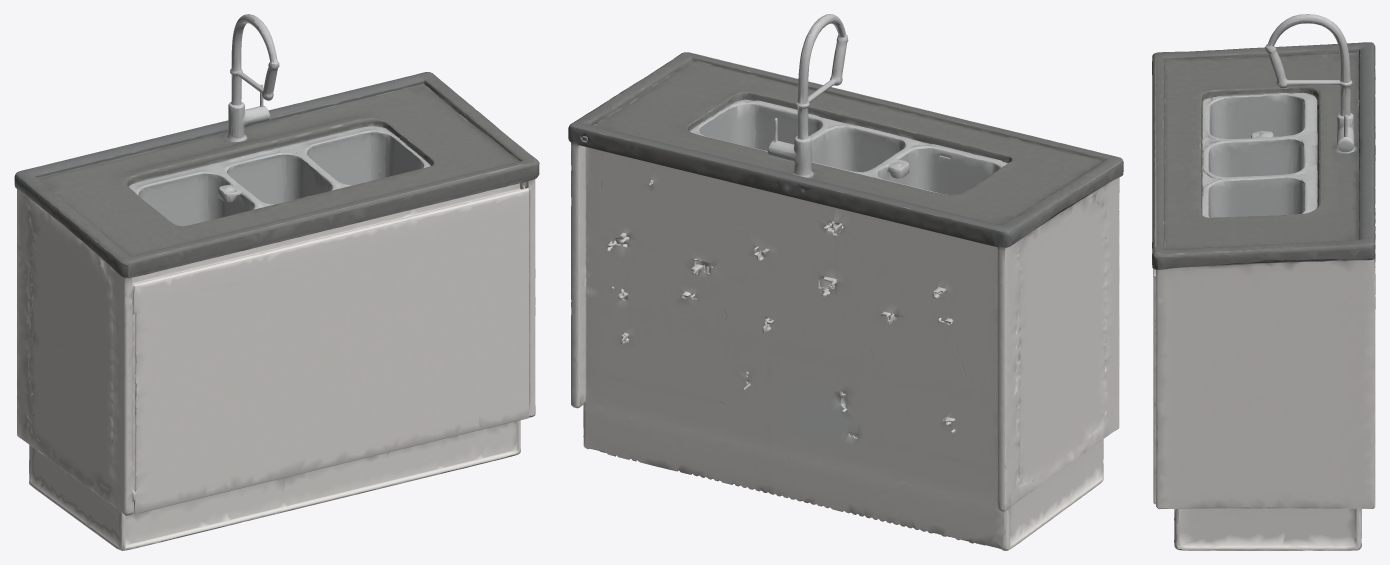
File: item_ade29326.glb
3 views of the same model, side by side, from view 1: azimuth 30°, elevation 25°; view 2: azimuth 150°, elevation 25°; view 3: azimuth 270°, elevation 25° (orthographic). The views are drawn at different scales.
Parts seen in each view (by area): view 1: world; view 2: world; view 3: world.
Part boxes in pixels (x1,y1,x2,y2): world: (14,14,539,550); world: (568,14,1123,550); world: (1152,14,1375,550).
Size of the model in its own units: 1.2 by 1.2 by 0.5543.
1 material, 1 textured.
